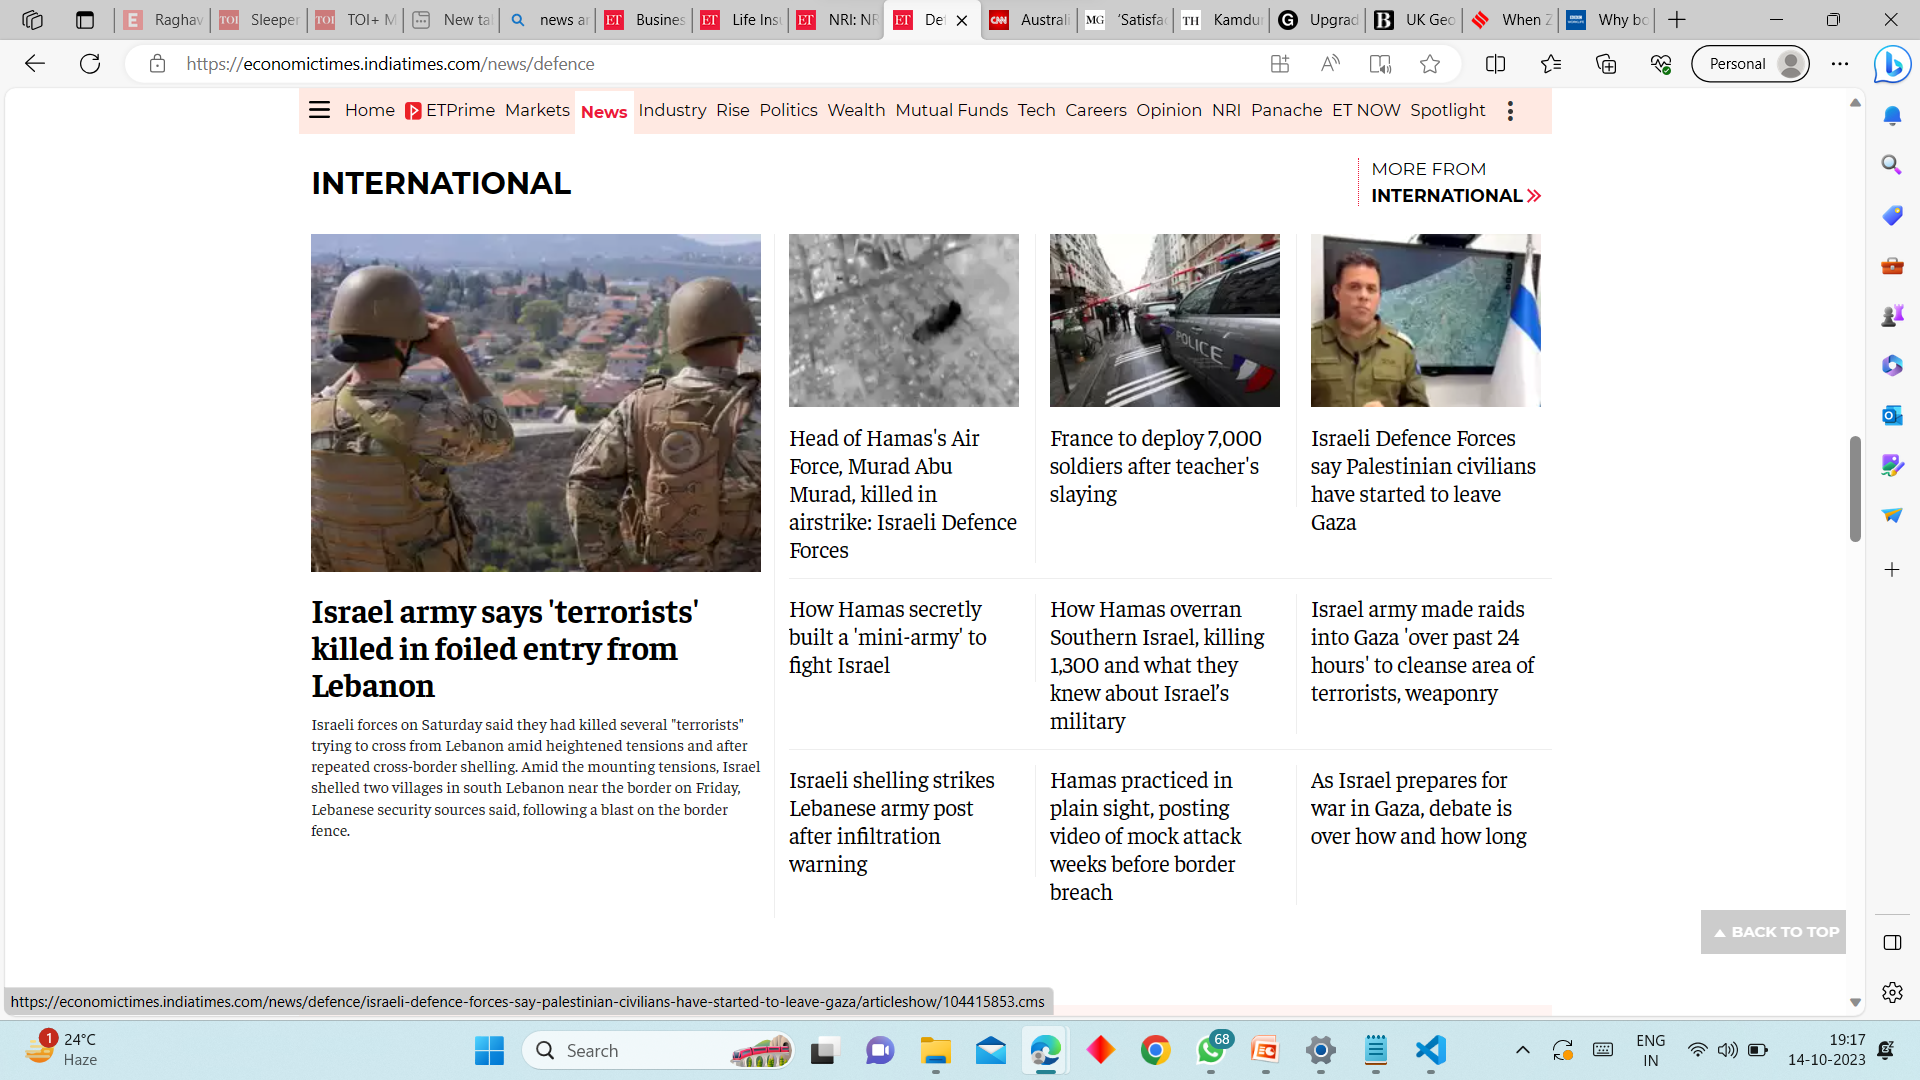Image: (309, 232, 761, 568), (1051, 225, 1279, 414), (1305, 237, 1536, 414), (794, 231, 1018, 405)
Paragraph: (282, 707, 761, 848), (293, 584, 745, 707), (771, 414, 1035, 576), (1035, 592, 1282, 745), (1290, 584, 1559, 720), (1292, 749, 1568, 874), (1035, 756, 1250, 915), (1308, 422, 1552, 547), (782, 762, 1010, 894), (295, 141, 644, 208), (1048, 422, 1267, 524), (767, 584, 996, 673), (1364, 157, 1553, 216)
